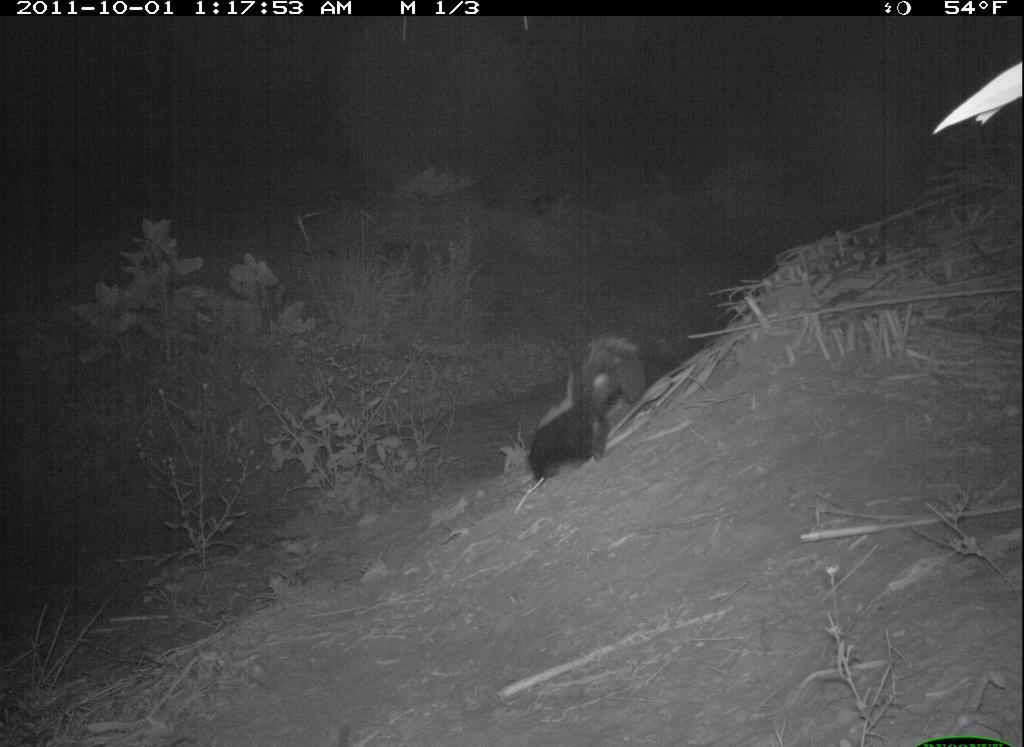skunk: (518, 335, 653, 482)
